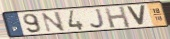4: (68, 9, 87, 32)
9: (22, 13, 43, 34)
H: (103, 6, 133, 29)
J: (89, 8, 107, 30)
N: (40, 11, 67, 33)
V: (125, 5, 147, 27)
